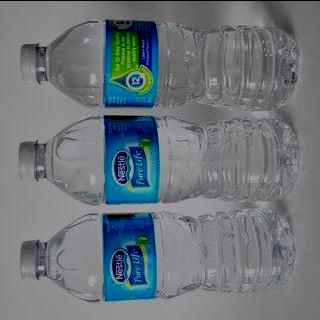bottle: (13, 107, 304, 212), (15, 202, 302, 306), (12, 13, 304, 114)
